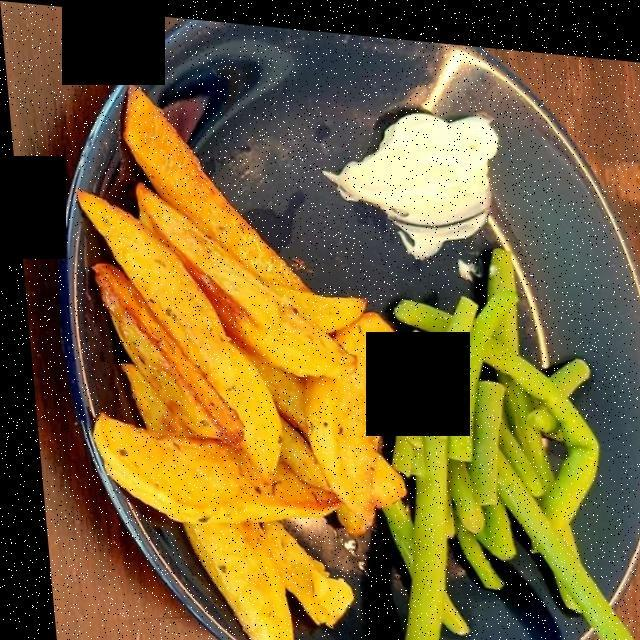beans: (389, 237, 617, 640)
fries: (89, 99, 395, 637)
mayonnaise: (336, 100, 502, 256)
